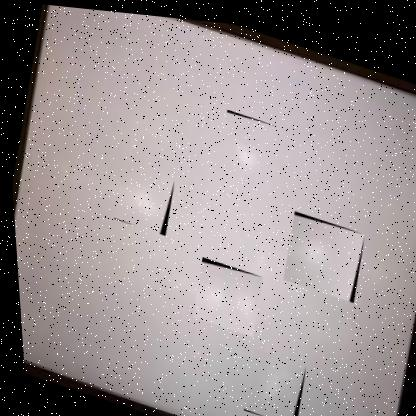spot: (275, 203, 366, 298), (183, 252, 262, 334), (208, 103, 279, 192), (107, 159, 176, 235), (234, 342, 305, 415)
